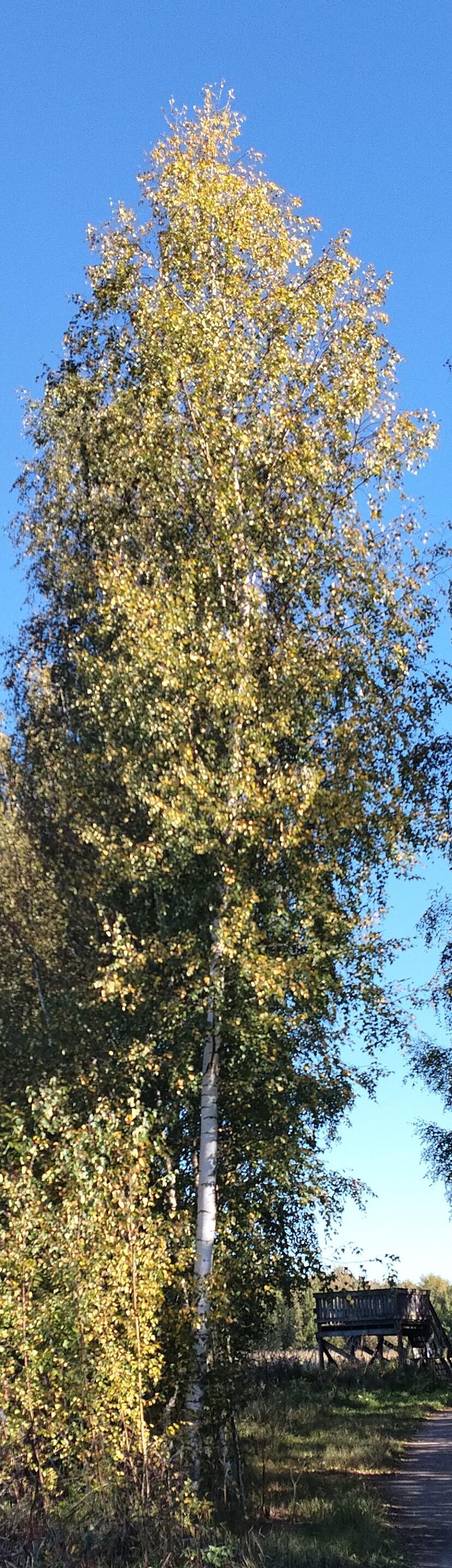Birch: (2, 74, 450, 1535)
